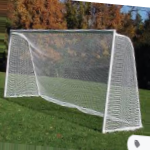goals: (4, 27, 145, 133)
